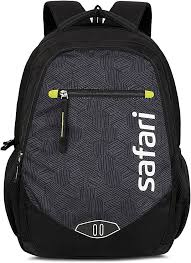backpack: (0, 0, 190, 259)
